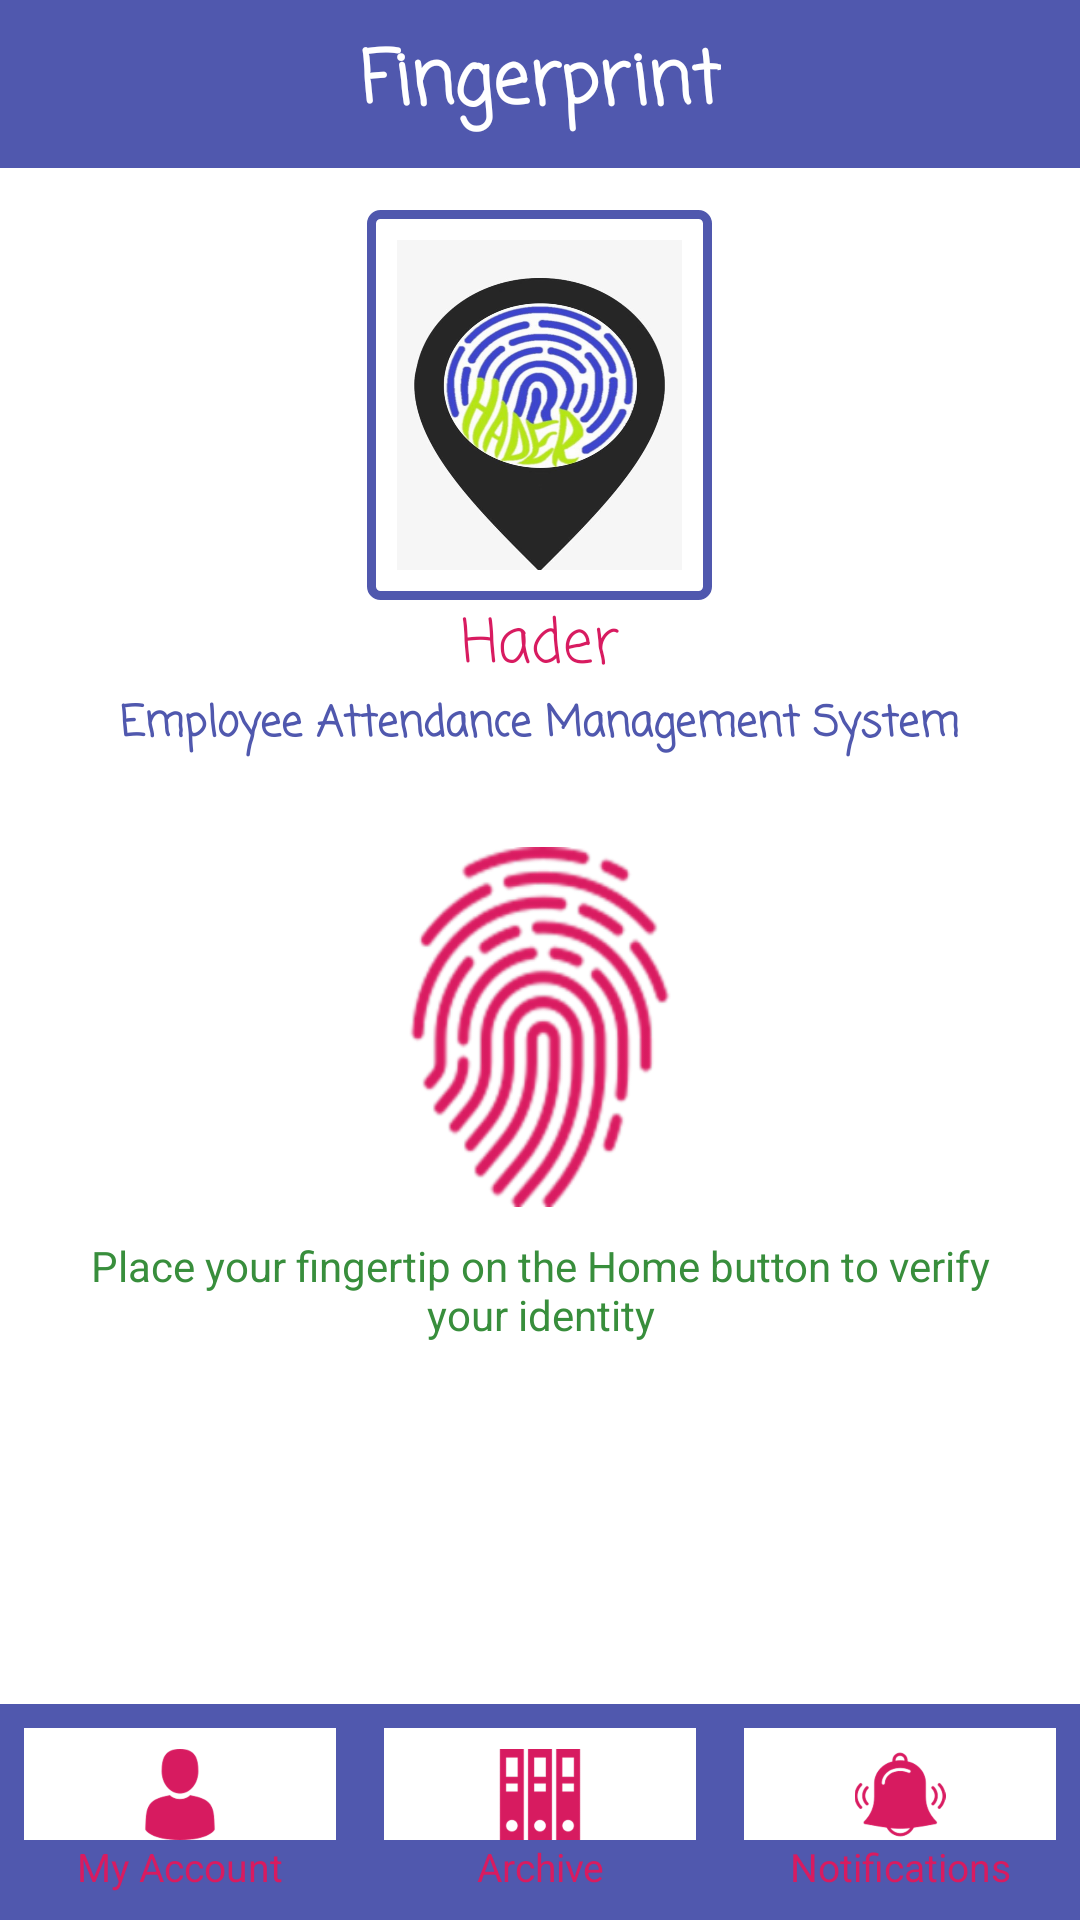

Where to tap for icons on this 1080×1920 app screen, as [x,y]:
fingerprint: [540,1027]
